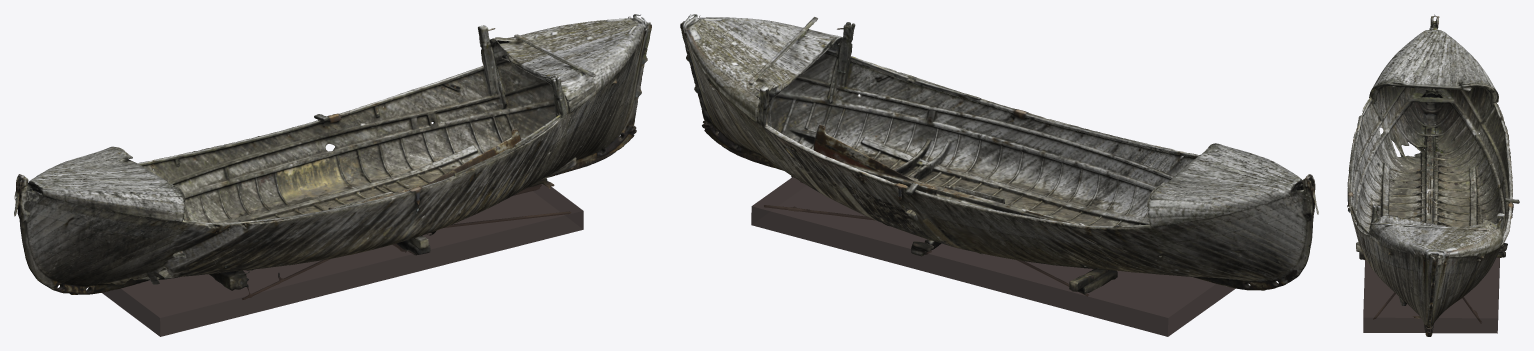
Rendered from rnlb-jane-anne.glb.
3 renders of one model, left to right at view 1: azimuth 30°, elevation 25°; view 2: azimuth 150°, elevation 25°; view 3: azimuth 270°, elevation 25°, orthographic. The views are drawn at different scales.
Visible parts, largest first — view 1: default_Material #25_0 (×2), Box001; view 2: default_Material #25_0 (×2), Box001; view 3: default_Material #25_0 (×2), Box001.
Boxes of the visible parts, bbox=[...] form: default_Material #25_0 (×2): bbox=[14, 14, 651, 299]; Box001: bbox=[102, 184, 583, 336]; default_Material #25_0 (×2): bbox=[680, 14, 1318, 296]; Box001: bbox=[751, 177, 1235, 336]; default_Material #25_0 (×2): bbox=[1347, 14, 1519, 336]; Box001: bbox=[1363, 172, 1499, 333].
Bounding box in the file's own units: 11.13 × 2.74 × 3.29.
2 materials, 1 textured.
